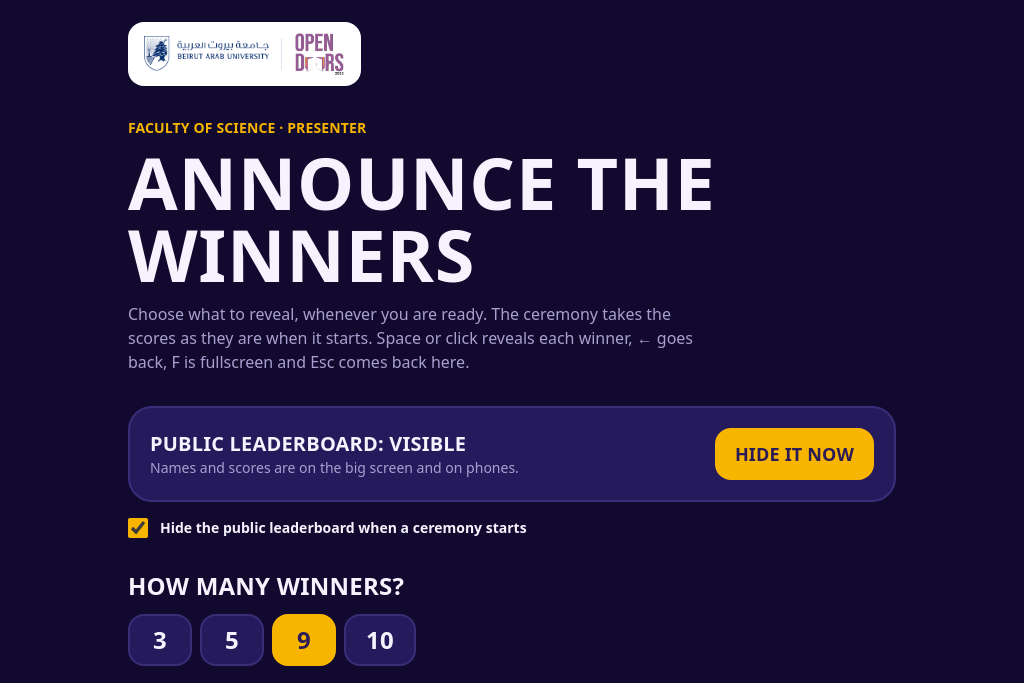
leaves the board as it is when staff untick the hide option
Click the checkbox labelled "Hide the public leaderboard when a ceremony starts" at (138, 528), box [128, 518, 148, 538]
(page scrolled)
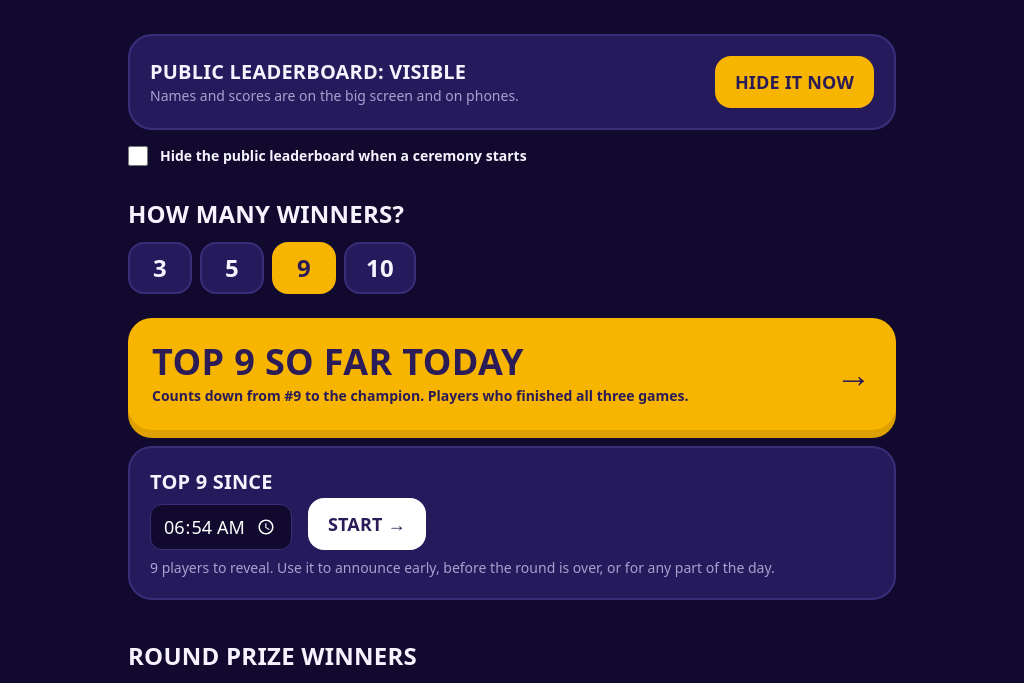
Click the button "Top 9 so far today" at (512, 374), box [128, 318, 896, 430]
(page scrolled)
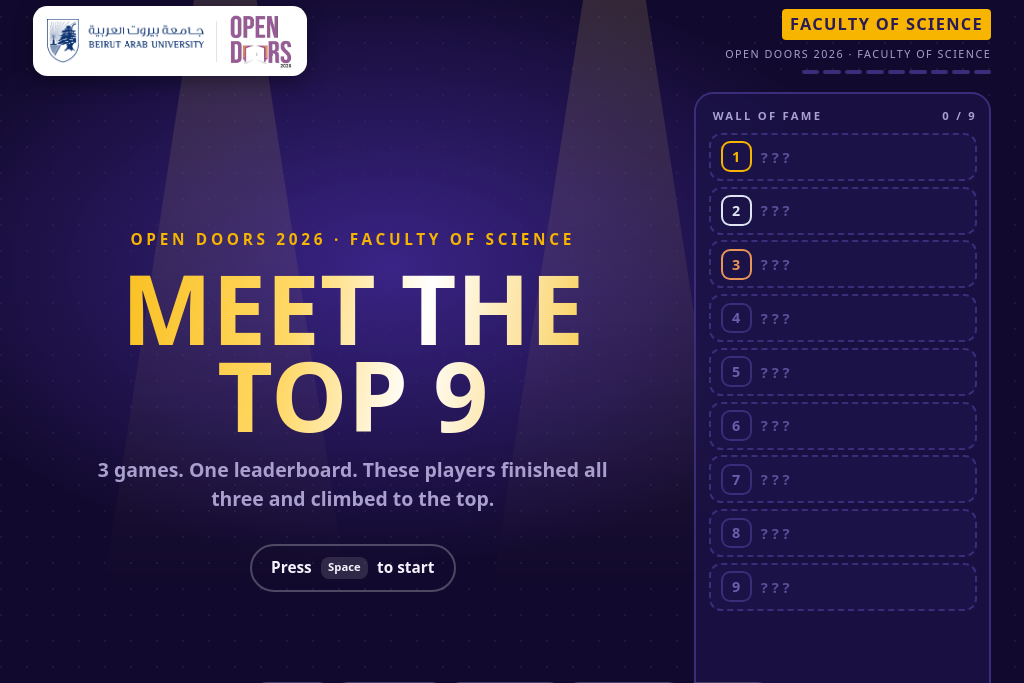
Check: the heading "Meet the Top 9" is shown, box [38, 265, 668, 438]
